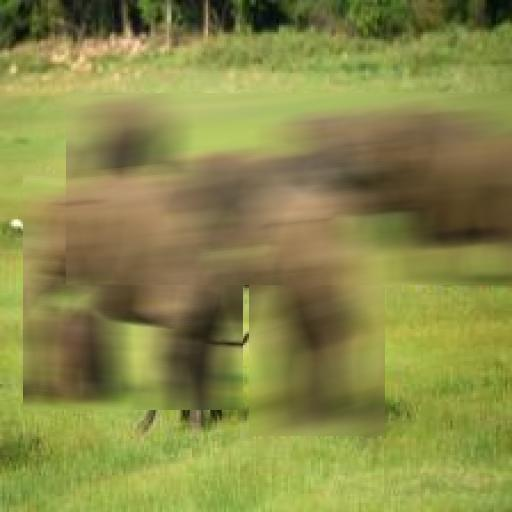Elephant: (66, 94, 512, 286), (23, 174, 243, 410), (249, 169, 385, 436)
